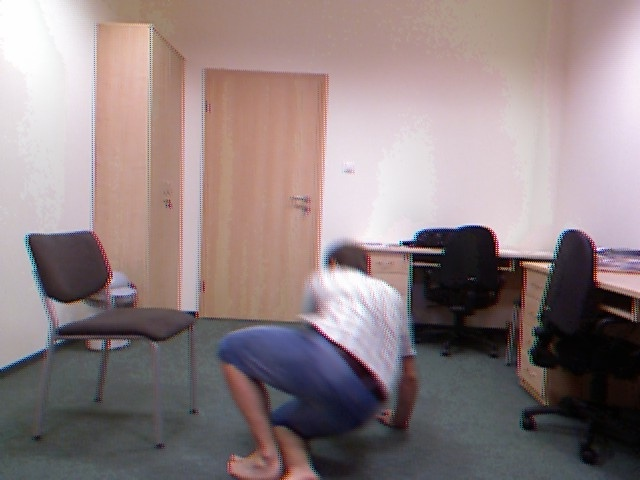fall: (210, 227, 431, 480)
